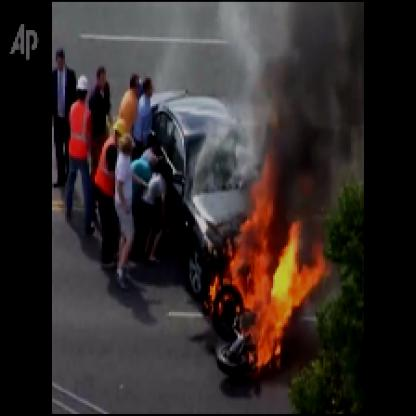Fire: (210, 124, 323, 381)
Smoke: (258, 2, 357, 193)
